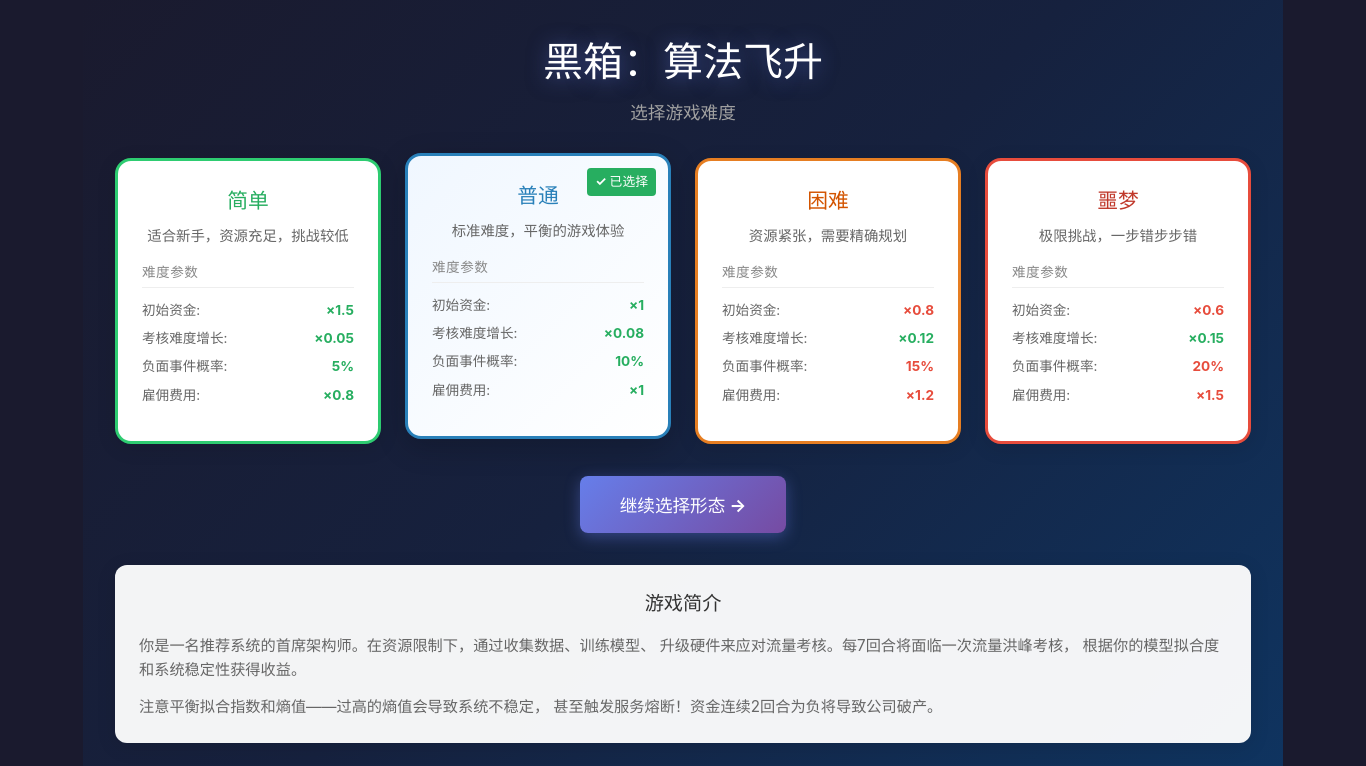
Test: GameInitializer 组件 › 形态选择界面 › 点击继续按钮后应该显示形态选择界面
This screenshot has width=1366, height=766.
Step 1. Click the button "继续选择形态 →" → (683, 505), box [580,476,786,533]
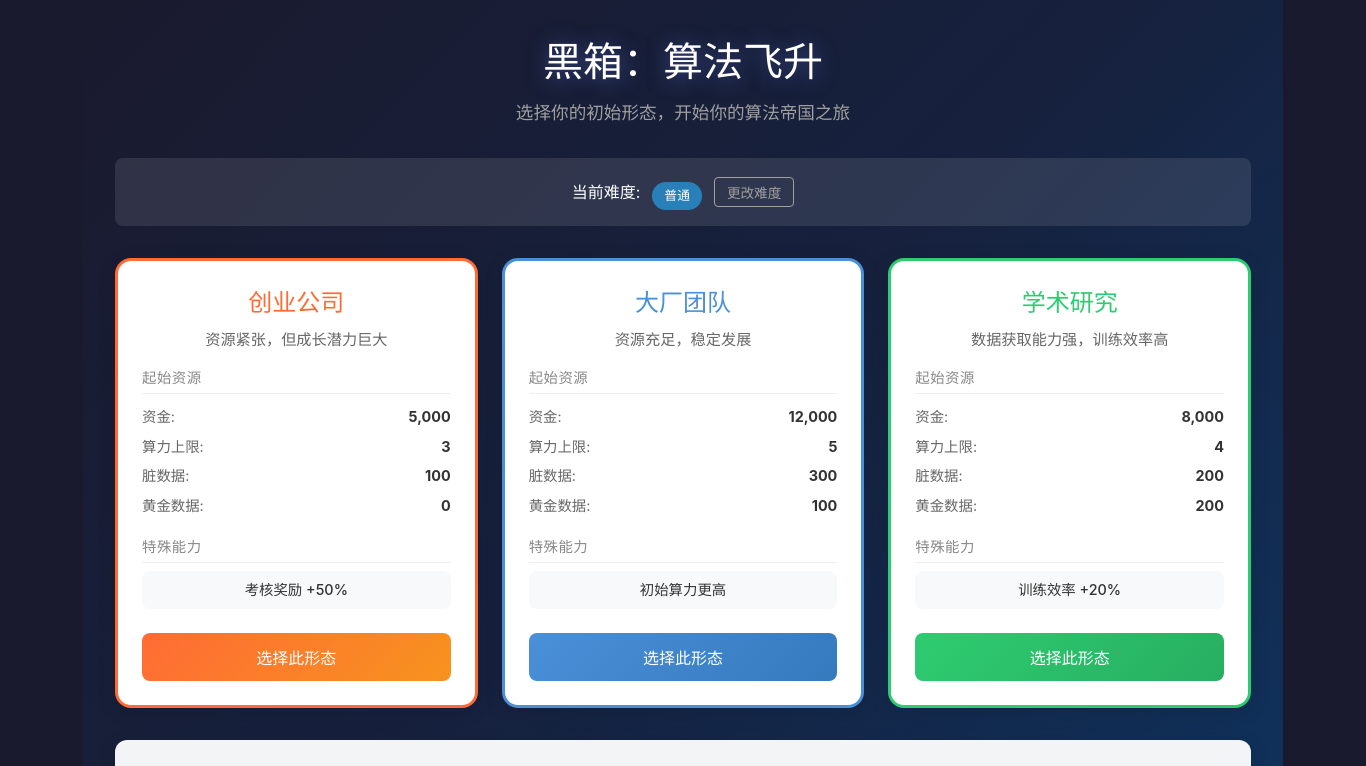
Now the heading "创业公司" is shown, box [248,288,344,317]
Now the heading "大厂团队" is shown, box [635,288,731,317]
Now the heading "学术研究" is shown, box [1022,288,1118,317]
